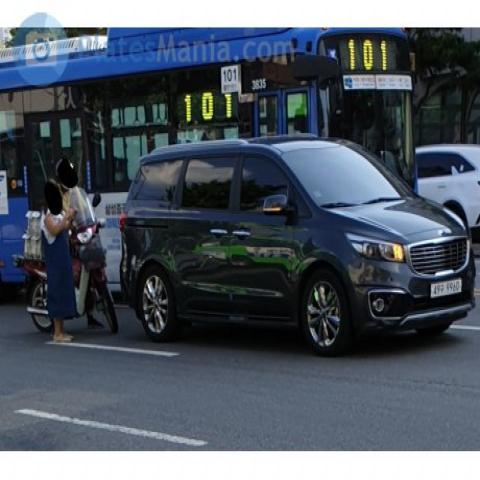LP: (424, 268, 466, 303)
